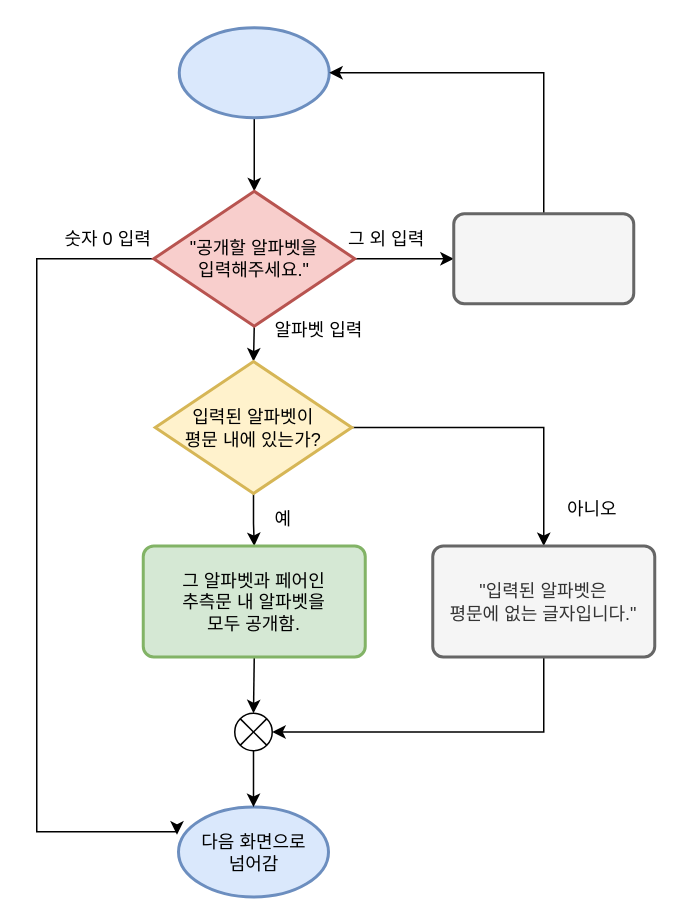
This 683x924 diagram has some shape labels left out. Each missing label, with the box of its shape:
"유효하지 않은 입력입니다.": (452, 212, 634, 304)
공개 모드 설정 화면: (177, 26, 330, 118)
